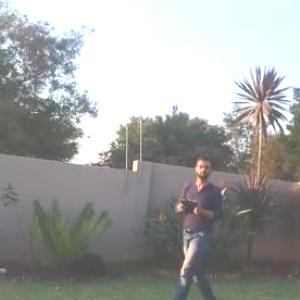follow: (159, 149, 227, 299)
